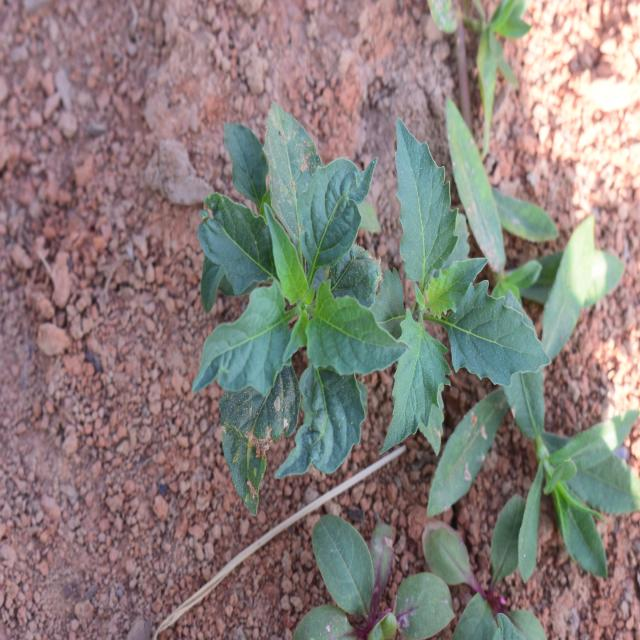Black_nightshade: (188, 127, 391, 460), (382, 134, 572, 457)
